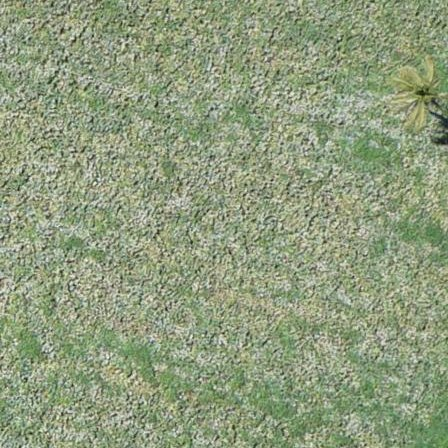palm_tree: (387, 62, 443, 121)
